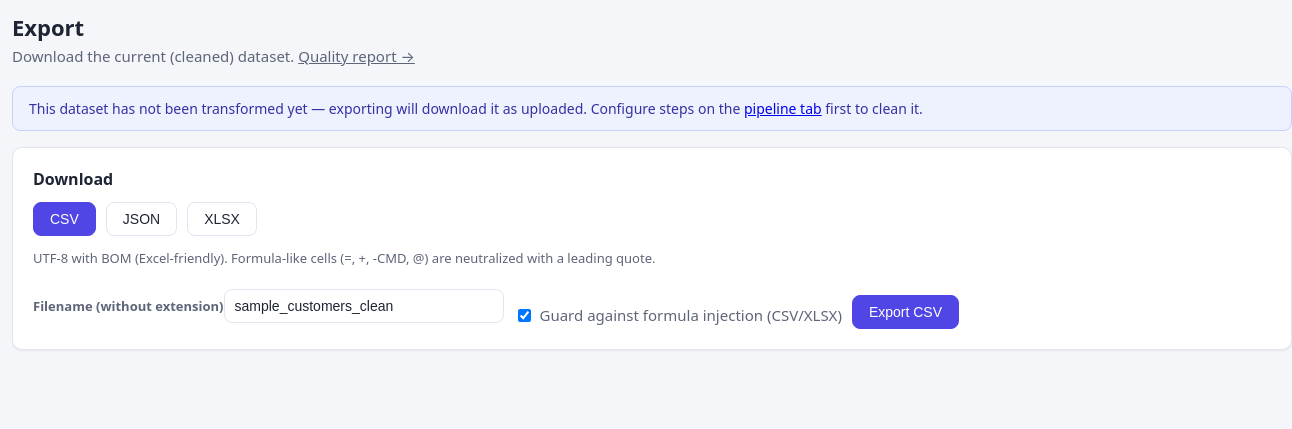
it: ExportPage › downloads a CSV export with the requested filename
This screenshot has width=1292, height=429.
Replace the text in the field labelled "Filename (without extension)" with "my_clean_data" at (364,306), box [224, 289, 504, 323]
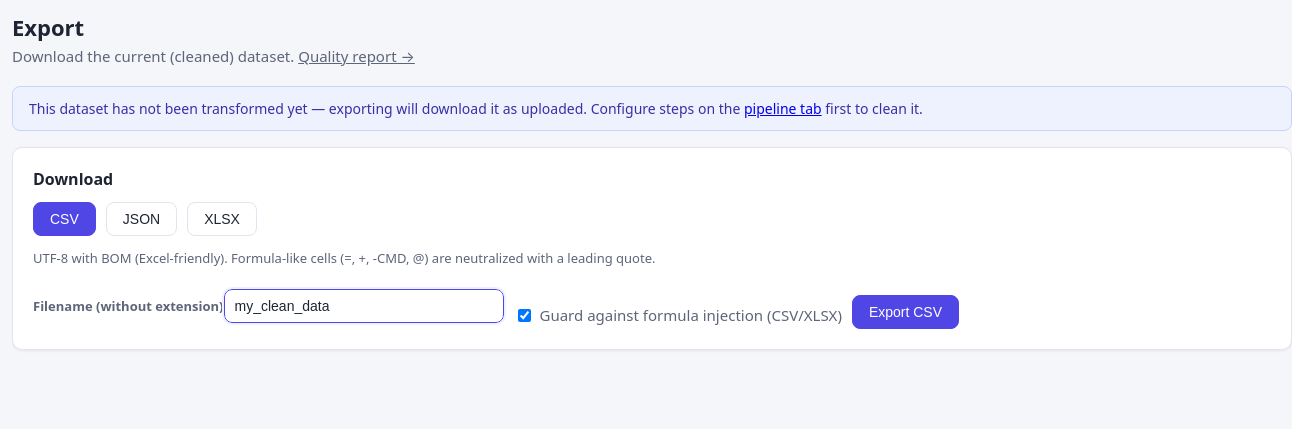
Click the button "Export CSV".
click(905, 312)  # box [852, 295, 959, 329]
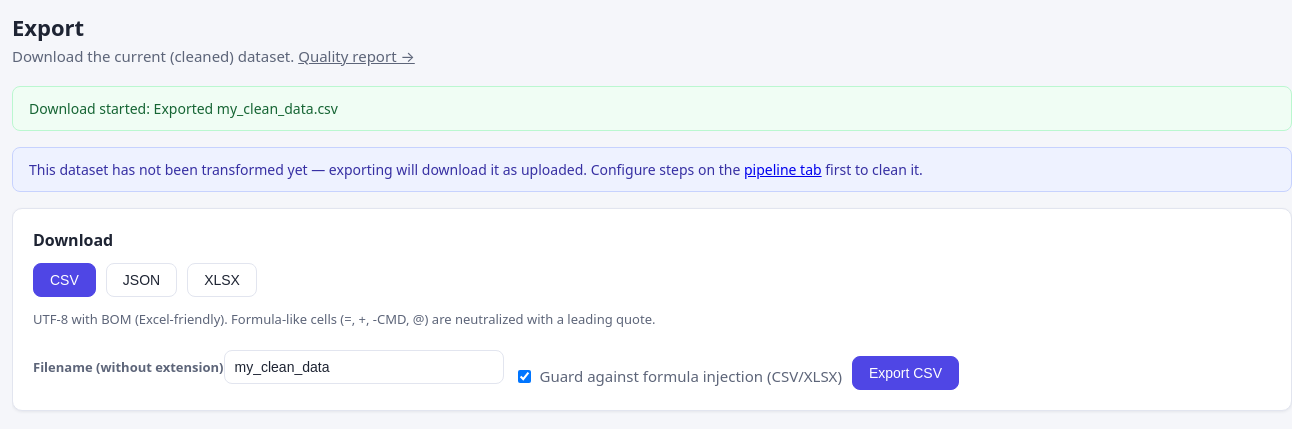
Expected: the text "Download started: Exported my_clean_data.csv" is shown, [12, 86, 1291, 131]
